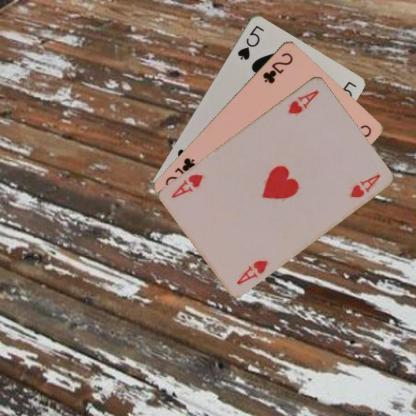2c: (260, 49, 294, 85)
5s: (234, 22, 266, 62)
Ah: (234, 257, 270, 286), (286, 87, 320, 115)
